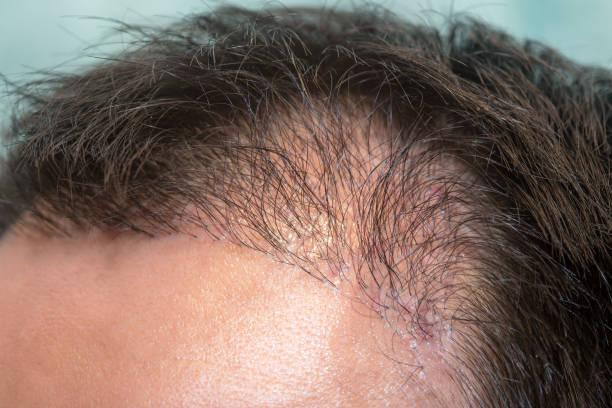low hair density: (225, 75, 483, 297)
